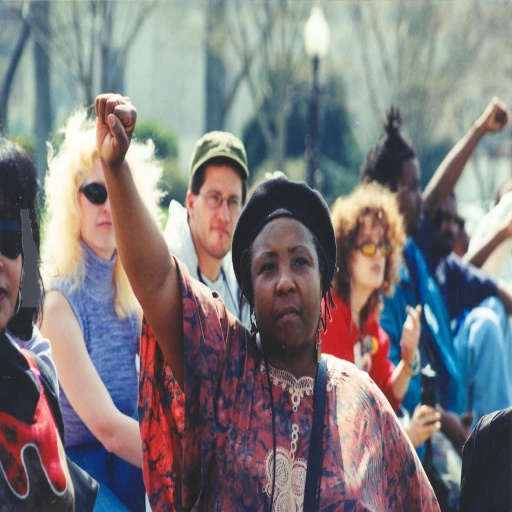hand: (81, 83, 140, 168), (405, 400, 442, 449), (400, 302, 423, 367), (442, 409, 470, 458), (481, 96, 510, 132), (502, 286, 511, 317), (504, 212, 511, 240)
